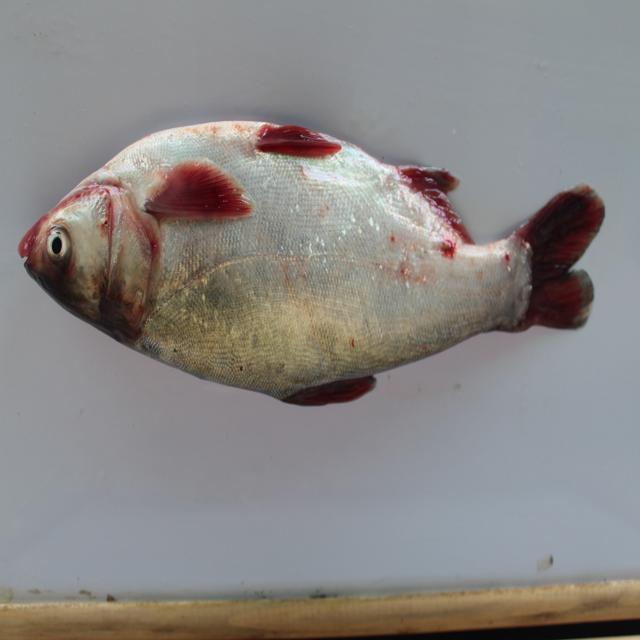SilverCarp: (16, 100, 627, 430)
